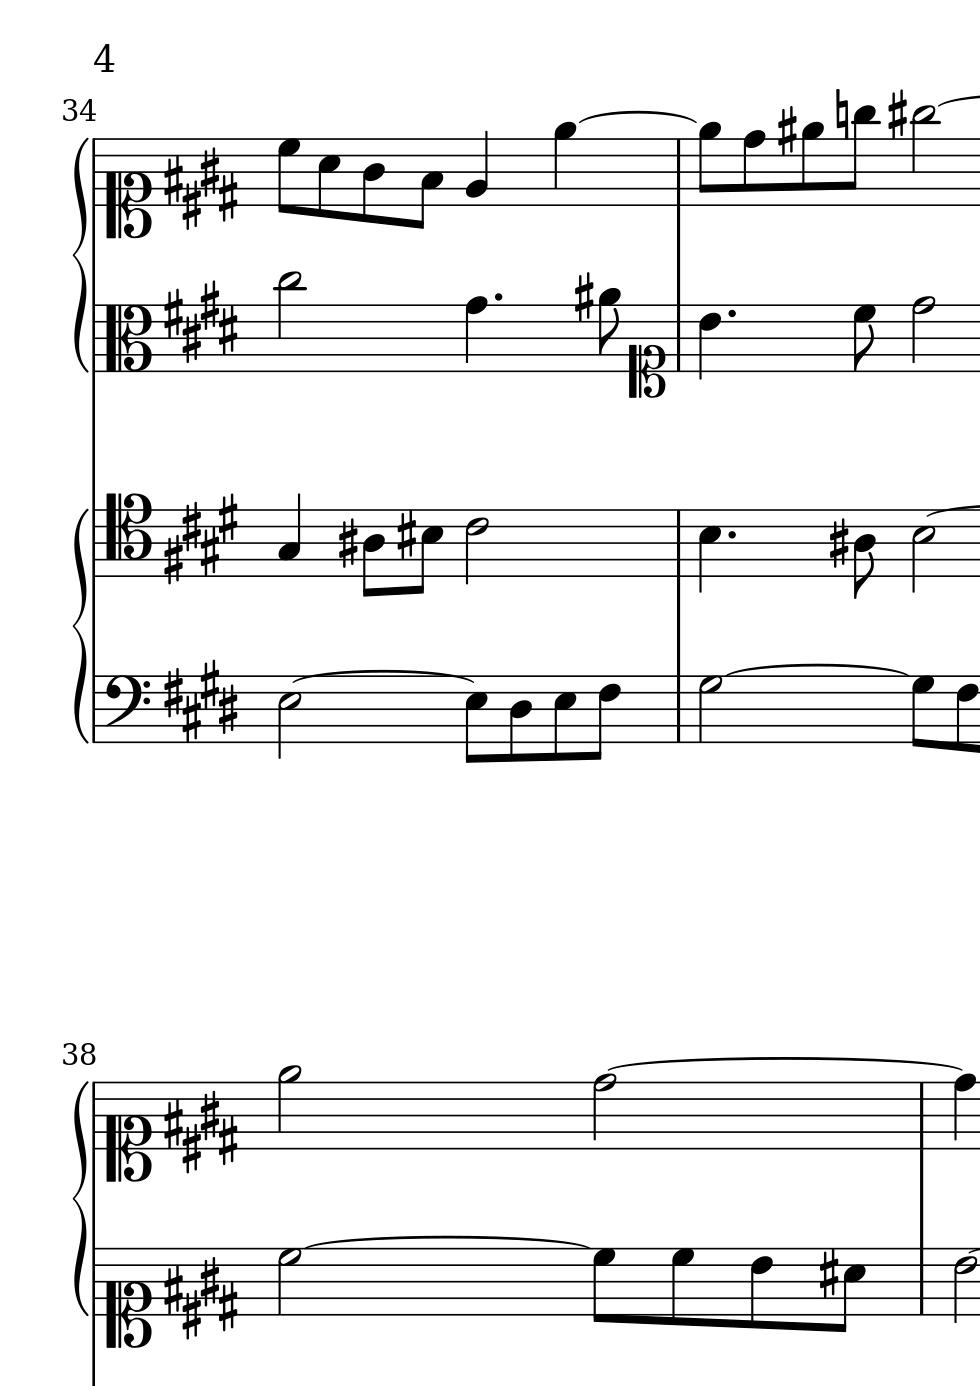2_11: (273, 270, 303, 372), (908, 103, 938, 208)
2_5: (910, 508, 937, 593), (275, 674, 301, 759)
2_6: (951, 1246, 978, 1327), (463, 508, 487, 585)
2_7: (273, 1244, 302, 1316), (696, 674, 721, 744)
2_8: (591, 1071, 618, 1152), (909, 294, 935, 374)
2_9: (275, 1063, 303, 1155)
3: (62, 97, 78, 124), (60, 1041, 78, 1067)
4: (93, 41, 115, 73), (78, 97, 97, 124)
4_2: (463, 130, 490, 207)
4_3: (276, 493, 301, 578)
4_5: (696, 508, 721, 595)
4_6: (697, 303, 722, 380)
4_8: (950, 1071, 976, 1152), (463, 294, 487, 374)
4_9: (552, 121, 576, 207)
8: (78, 1040, 97, 1068)
8_11: (843, 102, 876, 208)
8_3: (410, 137, 443, 231)
8_4: (360, 137, 386, 225), (360, 508, 385, 599), (507, 674, 532, 764), (851, 508, 875, 600)
8_5: (833, 1246, 867, 1335), (412, 507, 443, 596), (463, 674, 488, 766), (552, 673, 576, 762), (316, 136, 342, 220)
8_6: (589, 673, 622, 764), (748, 1246, 773, 1331), (953, 674, 978, 754)
8_7: (668, 1246, 695, 1328), (590, 1246, 616, 1324), (909, 674, 935, 750), (276, 136, 300, 215), (850, 303, 876, 372)
8_8: (741, 128, 766, 208)
8_9: (595, 287, 622, 374), (799, 121, 824, 207), (697, 121, 721, 208)
Brace: (69, 506, 88, 748), (71, 1076, 89, 1316), (71, 137, 89, 374)
Cclef: (102, 303, 152, 374)
E_S: (161, 495, 242, 579), (161, 281, 242, 362), (162, 146, 239, 229), (162, 662, 241, 741), (161, 1256, 238, 1336), (162, 1090, 238, 1172)
Fclef: (102, 673, 148, 745)
Natural: (833, 88, 848, 143)
Sharp: (816, 1247, 840, 1300), (571, 270, 594, 323), (393, 508, 417, 561), (885, 87, 907, 141), (336, 517, 358, 569), (827, 516, 848, 571), (775, 104, 797, 157)
Single_barline: (669, 510, 687, 577), (670, 676, 688, 742), (670, 139, 687, 206), (913, 1083, 930, 1148), (670, 304, 686, 371), (88, 1247, 103, 1318), (914, 1248, 929, 1314), (88, 509, 102, 579), (88, 138, 102, 207), (88, 1082, 102, 1150), (89, 304, 102, 374), (89, 676, 101, 744)
Slur: (608, 1054, 960, 1072), (300, 1235, 588, 1249), (288, 669, 473, 686), (728, 662, 902, 676), (581, 109, 694, 123)
Soprano_Cclef: (104, 1245, 153, 1351), (103, 136, 150, 241), (104, 1078, 151, 1183), (627, 304, 666, 399)
Tensor_Cclef: (104, 492, 152, 578)
dot: (724, 526, 738, 544), (725, 305, 739, 322), (491, 290, 505, 304)
